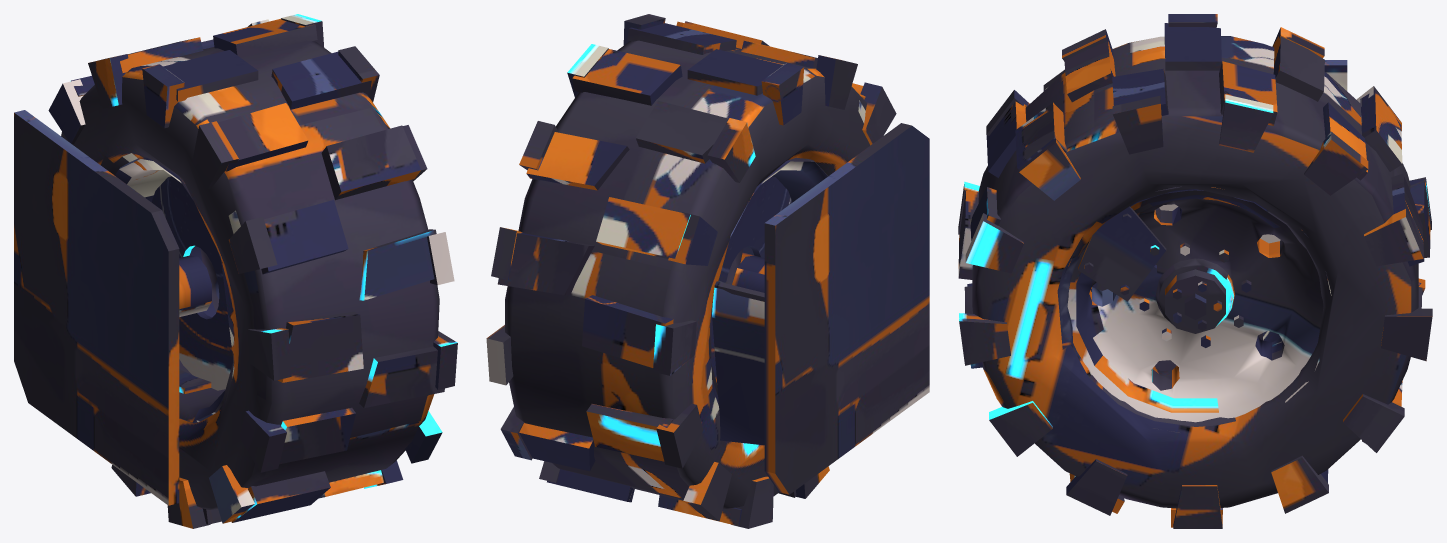
The model's file is R4M_WheelM_Side_Offroad_LOD1.fbx.
3 renders of one model, left to right at view 1: azimuth 30°, elevation 25°; view 2: azimuth 150°, elevation 25°; view 3: azimuth 270°, elevation 25°, orthographic.
Parts seen in each view (by area): view 1: R4M_WheelM_Side_Offroad_LOD1; view 2: R4M_WheelM_Side_Offroad_LOD1; view 3: R4M_WheelM_Side_Offroad_LOD1.
Boxes of the visible parts, bbox=[...] form: R4M_WheelM_Side_Offroad_LOD1: bbox=[14, 14, 457, 528]; R4M_WheelM_Side_Offroad_LOD1: bbox=[486, 14, 929, 528]; R4M_WheelM_Side_Offroad_LOD1: bbox=[958, 14, 1432, 528].
Bounding box in the file's own units: 0.451 × 0.764 × 0.7651.
